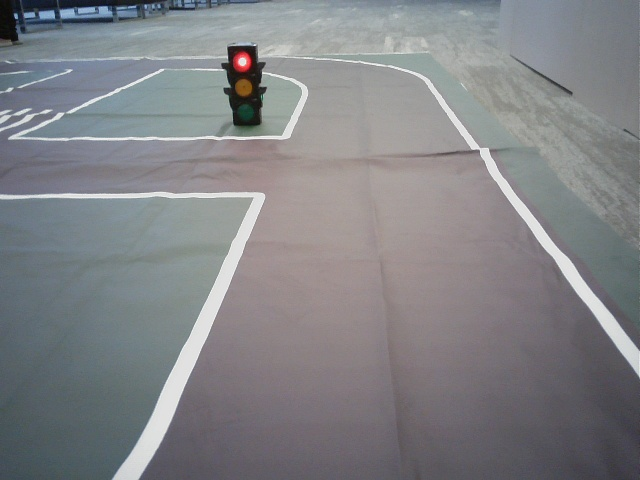red: (229, 47, 257, 124)
